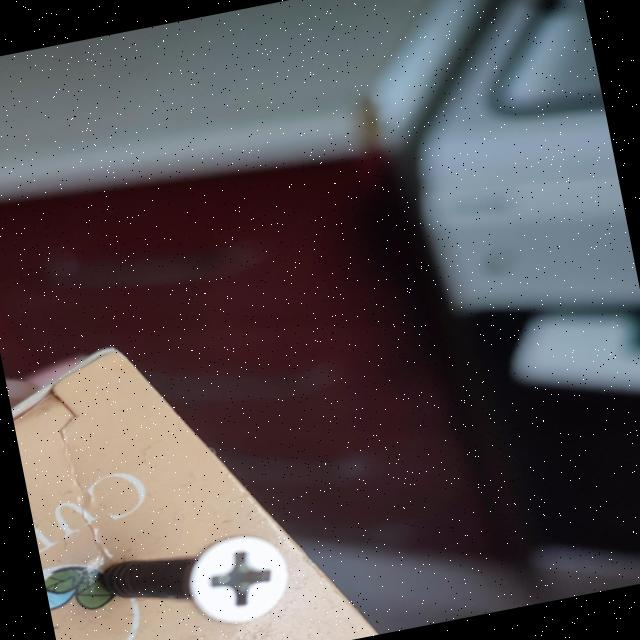Phillips: (179, 532, 304, 627)
